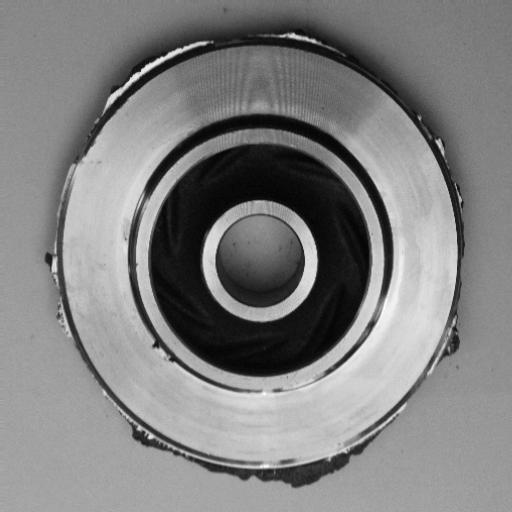casting_with_burr: (42, 25, 472, 491)
crack: (140, 330, 191, 374)
scratch: (242, 374, 333, 407)
